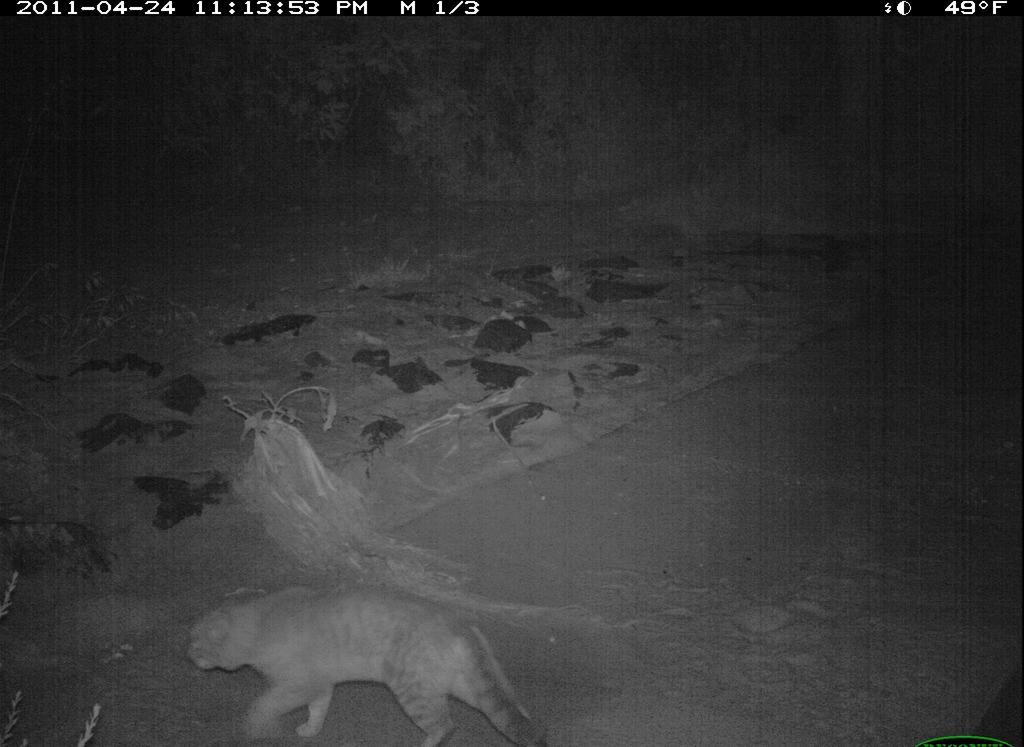cat: (180, 582, 550, 747)
